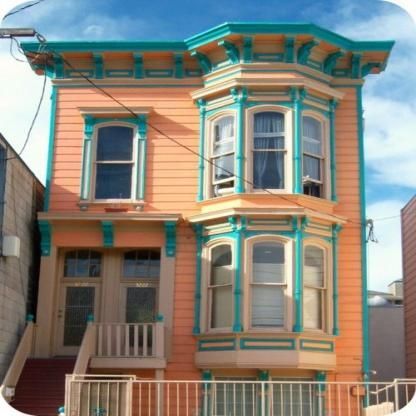Building Outline: (0, 21, 396, 416)
Cornice: (188, 79, 347, 114), (185, 207, 349, 240), (37, 212, 183, 226), (77, 107, 155, 118)
Door: (54, 282, 102, 356), (114, 282, 161, 356)
Facade: (52, 41, 362, 416)
Floor Slab: (44, 214, 366, 220)
Ground Floor: (43, 220, 366, 360)
Sill: (196, 193, 338, 209), (191, 332, 339, 342), (77, 202, 147, 212)
Top Floor: (53, 63, 361, 214)
Window: (90, 121, 138, 202), (249, 239, 286, 333), (253, 110, 288, 194), (302, 244, 328, 335), (207, 243, 232, 334), (210, 115, 235, 199), (302, 115, 325, 200), (122, 249, 161, 278), (63, 250, 102, 278)
